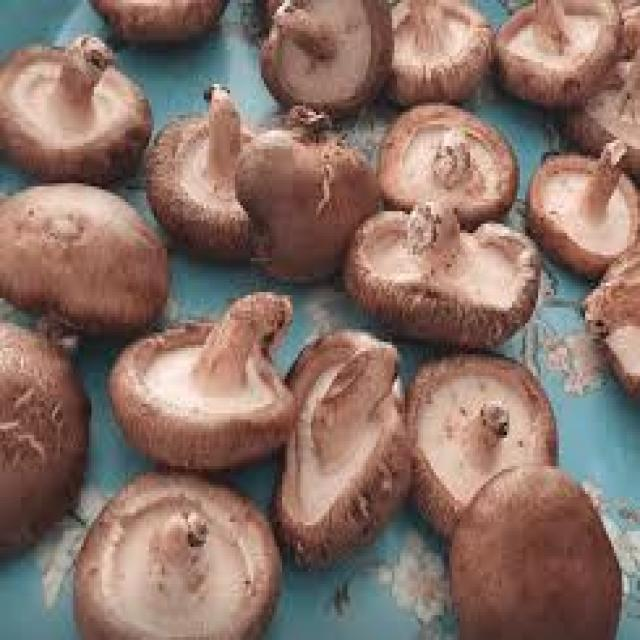Mushroom: (76, 475, 282, 640), (110, 295, 295, 471), (277, 332, 413, 569), (347, 202, 543, 350), (408, 354, 559, 539), (0, 183, 167, 336), (0, 37, 152, 185), (379, 106, 520, 230)
